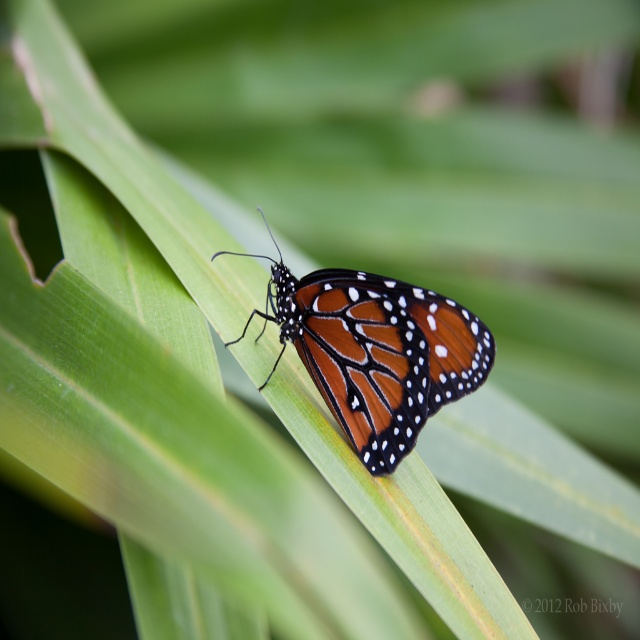Butterfly: (212, 200, 494, 472)
